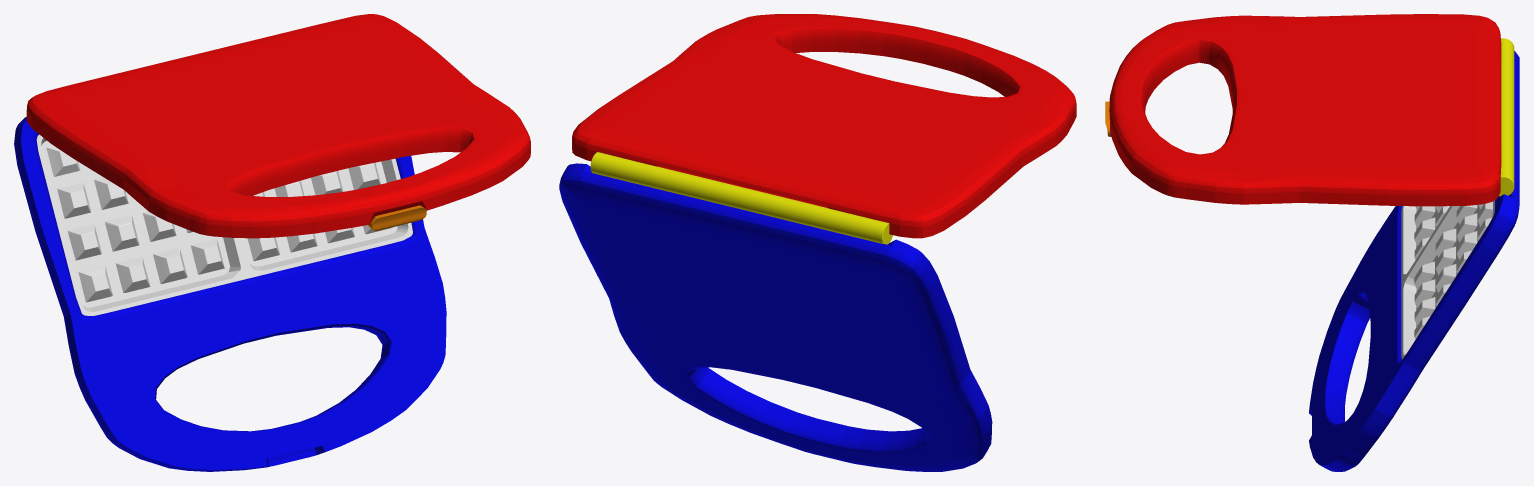
Rendered from waffle_maker.fbx.
3 views of the same model, side by side, from view 1: azimuth 30°, elevation 25°; view 2: azimuth 150°, elevation 25°; view 3: azimuth 270°, elevation 25° (orthographic). The views are drawn at different scales.
Parts seen in each view (by area): view 1: polySurface118, polySurface121; view 2: polySurface118, polySurface121, polySurface120; view 3: polySurface121, polySurface118, polySurface120.
Part boxes in pixels (x1,y1,x2,y2): polySurface118: [14, 117, 446, 471]; polySurface121: [26, 14, 530, 238]; polySurface118: [559, 163, 992, 471]; polySurface121: [572, 14, 1076, 238]; polySurface120: [590, 152, 892, 244]; polySurface121: [1105, 14, 1501, 206]; polySurface118: [1309, 51, 1519, 471]; polySurface120: [1499, 38, 1514, 196].
Bounding box in the file's own units: 31.25 × 28.02 × 31.16.
